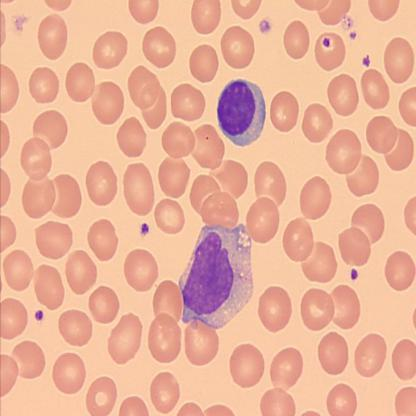Monocyte: (176, 221, 256, 331), (214, 76, 268, 149)
